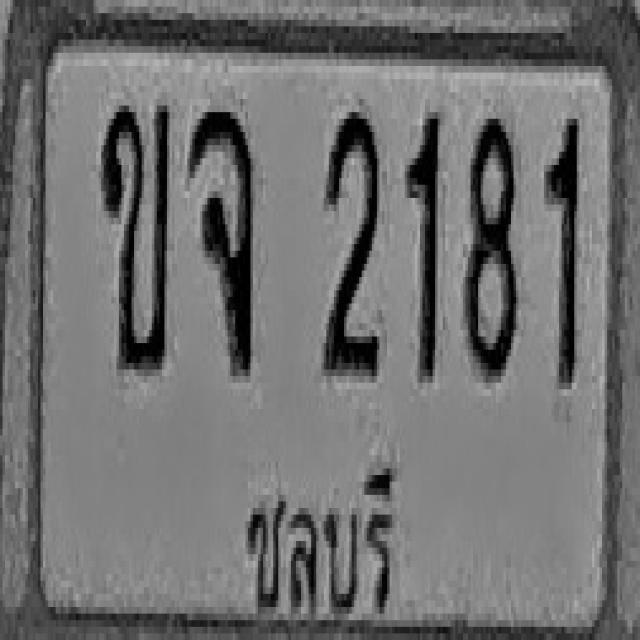1: (544, 112, 579, 383), (405, 106, 440, 376)
11KhorKhai: (101, 99, 170, 369)
17ChorChan: (187, 106, 253, 370)
2: (323, 106, 378, 376)
8: (464, 112, 518, 376)
Chonburi: (238, 444, 397, 635)
